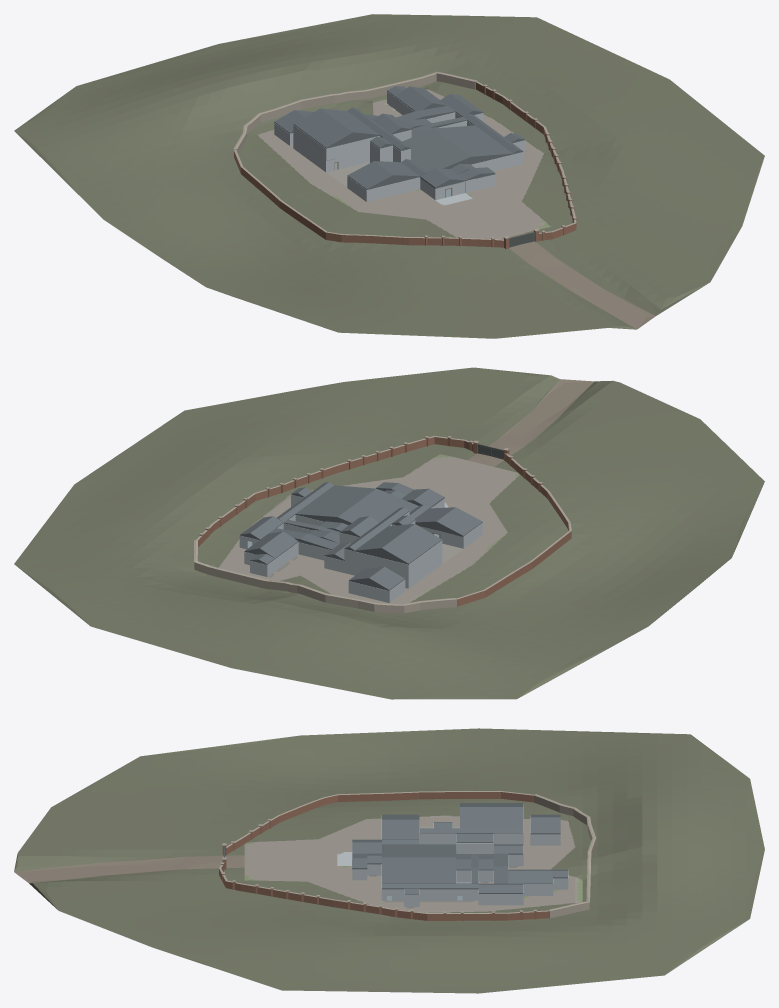
The model's file is asylum-stair.glb.
3 renders of one model, top to bottom at view 1: azimuth 30°, elevation 25°; view 2: azimuth 150°, elevation 25°; view 3: azimuth 270°, elevation 25°, orthographic. The views are drawn at different scales.
Parts seen in each view (by area): view 1: Asylum fitted exterior terrain, Saved editor geographic earthworks ASYLUM, clinical-and-dining roof west, clinical-and-dining roof east, two-storey-ward roof west, Asylum estate bank wall 08, day-pavilion roof west, Wall day S, two-storey-ward roof east, Asylum estate hedge wall 21, Asylum estate gate wall 20; view 2: Asylum fitted exterior terrain, Saved editor geographic earthworks ASYLUM, clinical-and-dining roof east, clinical-and-dining roof west, two-storey-ward roof west, Asylum estate bank wall 08, day-pavilion roof west, Asylum estate gate wall 14, Asylum estate wall wall 13, two-storey-ward roof east; view 3: Asylum fitted exterior terrain, Saved editor geographic earthworks ASYLUM, clinical-and-dining roof east, two-storey-ward roof east, clinical-and-dining roof west, Flat route shell Wall service E, day-pavilion roof east, Asylum estate wall wall 13, Asylum estate gate wall 14, Asylum estate hedge wall 23, Asylum estate hedge wall 24, quiet-pavilion roof east (+4 smaller).
Part boxes in pixels (x1,y1,x2,y2): Asylum fitted exterior terrain: (14,14,764,338); Saved editor geographic earthworks ASYLUM: (258,89,550,239); clinical-and-dining roof west: (402,129,471,171); clinical-and-dining roof east: (433,125,512,157); two-storey-ward roof west: (293,108,352,148); Asylum estate bank wall 08: (334,72,436,103); day-pavilion roof west: (347,161,393,189); Wall day S: (366,177,420,201); two-storey-ward roof east: (320,108,379,135); Asylum estate hedge wall 21: (341,234,408,245); Asylum estate gate wall 20: (409,237,477,246); Asylum fitted exterior terrain: (14,367,764,699); Saved editor geographic earthworks ASYLUM: (218,454,519,603); clinical-and-dining roof east: (295,485,375,517); clinical-and-dining roof west: (337,488,418,523); two-storey-ward roof west: (382,524,441,564); Asylum estate bank wall 08: (194,561,298,593); day-pavilion roof west: (436,507,482,535); Asylum estate gate wall 14: (335,440,420,473); Asylum estate wall wall 13: (255,465,335,500); two-storey-ward roof east: (355,524,413,551); Asylum fitted exterior terrain: (14,728,764,993); Saved editor geographic earthworks ASYLUM: (244,815,582,912); clinical-and-dining roof east: (382,857,456,883); two-storey-ward roof east: (460,807,523,828); clinical-and-dining roof west: (382,844,456,857); Flat route shell Wall service E: (392,889,478,900); day-pavilion roof east: (382,819,419,839); Asylum estate wall wall 13: (333,899,427,920); Asylum estate gate wall 14: (241,883,333,906); Asylum estate hedge wall 23: (337,791,419,801); Asylum estate hedge wall 24: (419,791,500,799); quiet-pavilion roof east: (508,870,552,884).
Bounding box in the file's own units: 170 × 13.3 × 202.
59 materials, 32 textured.
